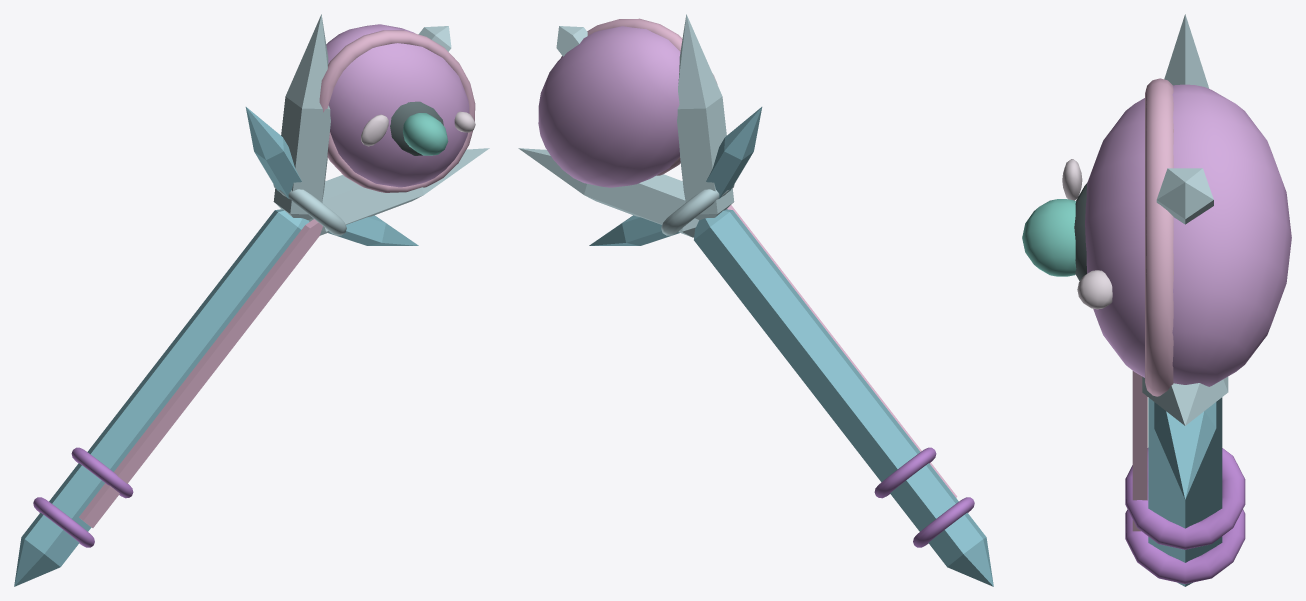
The model's file is glimmerwand.glb.
3 renders of one model, left to right at view 1: azimuth 30°, elevation 25°; view 2: azimuth 150°, elevation 25°; view 3: azimuth 270°, elevation 25°, orthographic. The views are drawn at different scales.
Visible parts, largest first — view 1: _glimmer_shard, _glimmer_shard.005, _glimmer_shard.001, _sphere; view 2: _glimmer_shard, _glimmer_shard.005, _glimmer_shard.001; view 3: _glimmer_shard.005, _glimmer_shard, _glimmer_shard.001, _sphere.
Boxes of the visible parts, x1,y1,x2,y2 form: _glimmer_shard: (14, 209, 322, 586); _glimmer_shard.005: (319, 24, 475, 192); _glimmer_shard.001: (245, 14, 489, 245); _sphere: (390, 101, 448, 155); _glimmer_shard: (694, 205, 993, 586); _glimmer_shard.005: (538, 18, 717, 187); _glimmer_shard.001: (518, 14, 762, 245); _glimmer_shard.005: (1062, 78, 1291, 396); _glimmer_shard: (1125, 371, 1245, 586); _glimmer_shard.001: (1142, 14, 1228, 499); _sphere: (1022, 182, 1087, 280).
Size of the model in its own units: 0.876 by 0.8762 by 0.2688.
